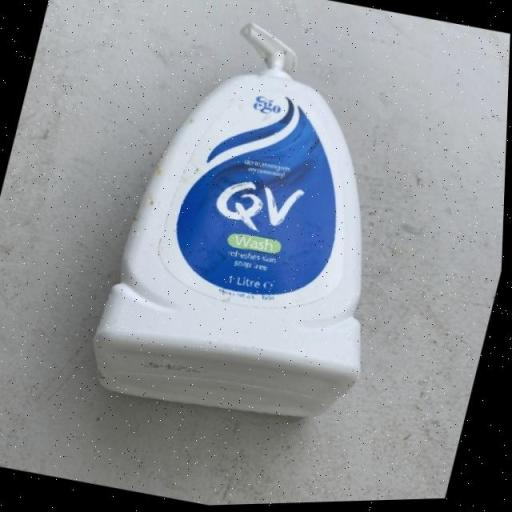plastic: (80, 1, 442, 444)
